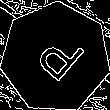P_SW: (26, 26, 85, 88)
